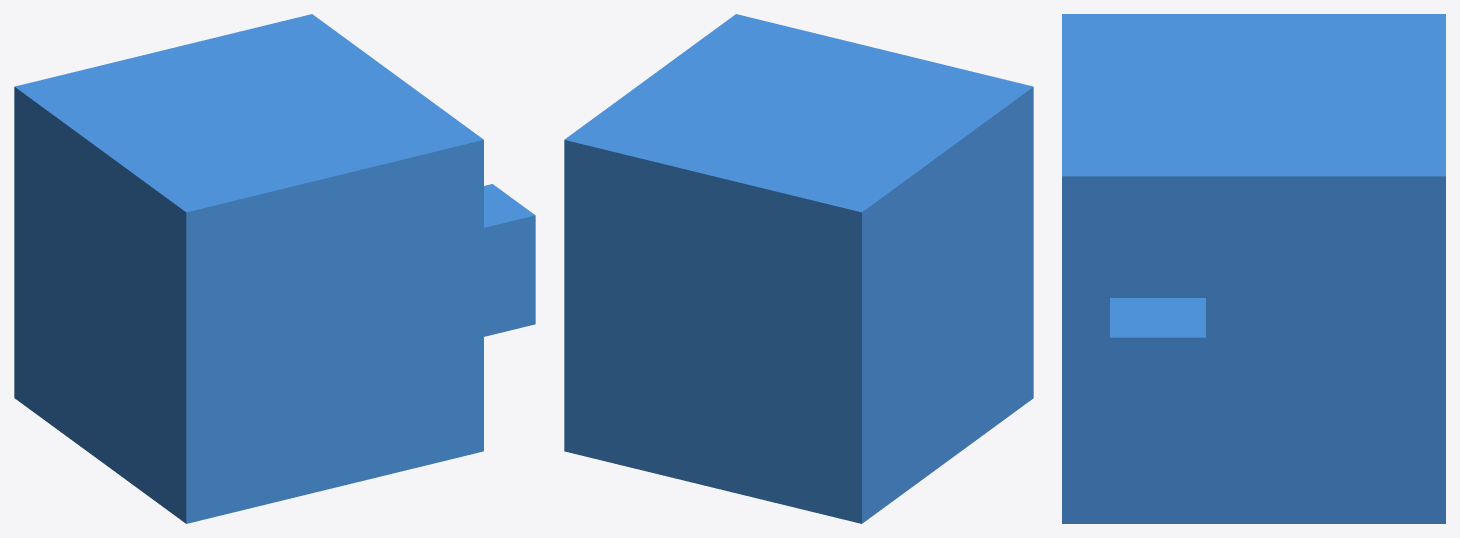
Rendered from colored-metallic.glb.
The picture shows the model from 3 angles, left to right: view 1: azimuth 30°, elevation 25°; view 2: azimuth 150°, elevation 25°; view 3: azimuth 270°, elevation 25°; orthographic projection. The views are drawn at different scales.
Visible parts, largest first — view 1: CobaltMetalBox, AsymmetricMarker; view 2: CobaltMetalBox; view 3: CobaltMetalBox, AsymmetricMarker.
Boxes of the visible parts, left/top/right/bottom form: CobaltMetalBox: left=14, top=14, right=483, bottom=523; AsymmetricMarker: left=484, top=184, right=535, bottom=336; CobaltMetalBox: left=564, top=14, right=1033, bottom=523; CobaltMetalBox: left=1062, top=14, right=1445, bottom=523; AsymmetricMarker: left=1110, top=298, right=1205, bottom=459.
Bounding box in the file's own units: 1.25 × 1 × 1.
